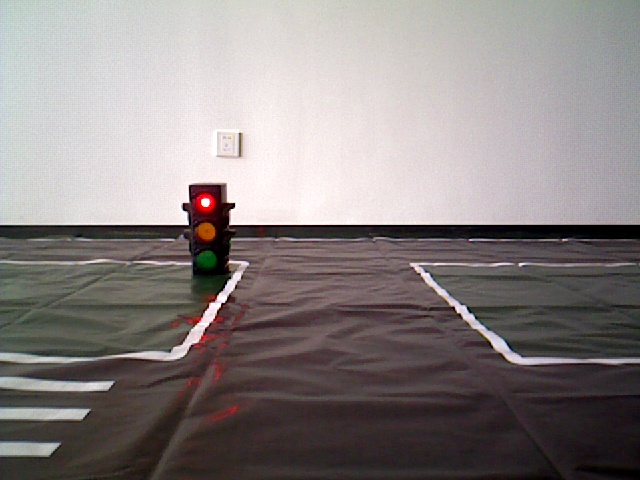red: (192, 185, 223, 278)
